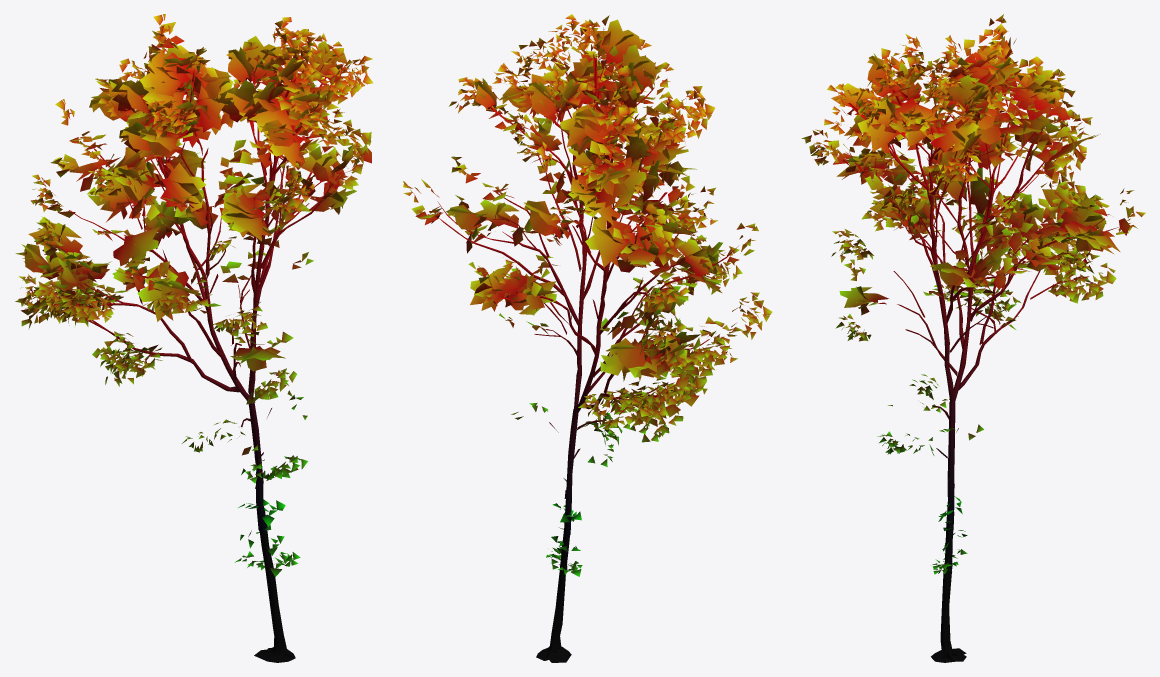
File: SM_EuropeanHornbeam_Forest_06.fbx
3 renders of one model, left to right at view 1: azimuth 30°, elevation 25°; view 2: azimuth 150°, elevation 25°; view 3: azimuth 270°, elevation 25°, orthographic. The views are drawn at different scales.
Visible parts, largest first — view 1: SM_EuropeanHornbeam_Forest_06; view 2: SM_EuropeanHornbeam_Forest_06; view 3: SM_EuropeanHornbeam_Forest_06.
Boxes of the visible parts, bbox=[...] form: SM_EuropeanHornbeam_Forest_06: bbox=[15, 14, 373, 662]; SM_EuropeanHornbeam_Forest_06: bbox=[403, 14, 772, 662]; SM_EuropeanHornbeam_Forest_06: bbox=[801, 14, 1145, 662].
Size of the model in its own units: 686 by 653 by 1253.
